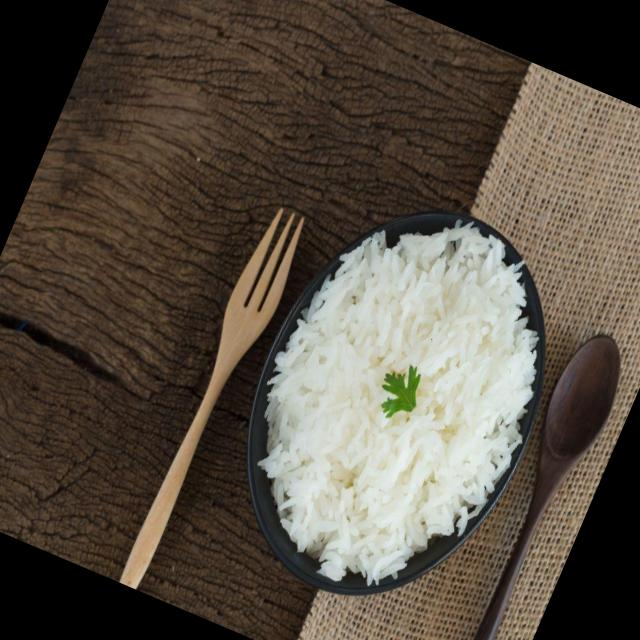rice: (264, 222, 540, 571)
